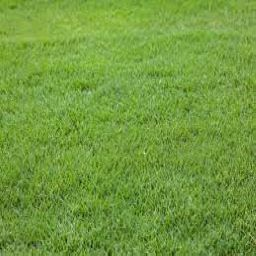grass: (1, 5, 251, 251)
